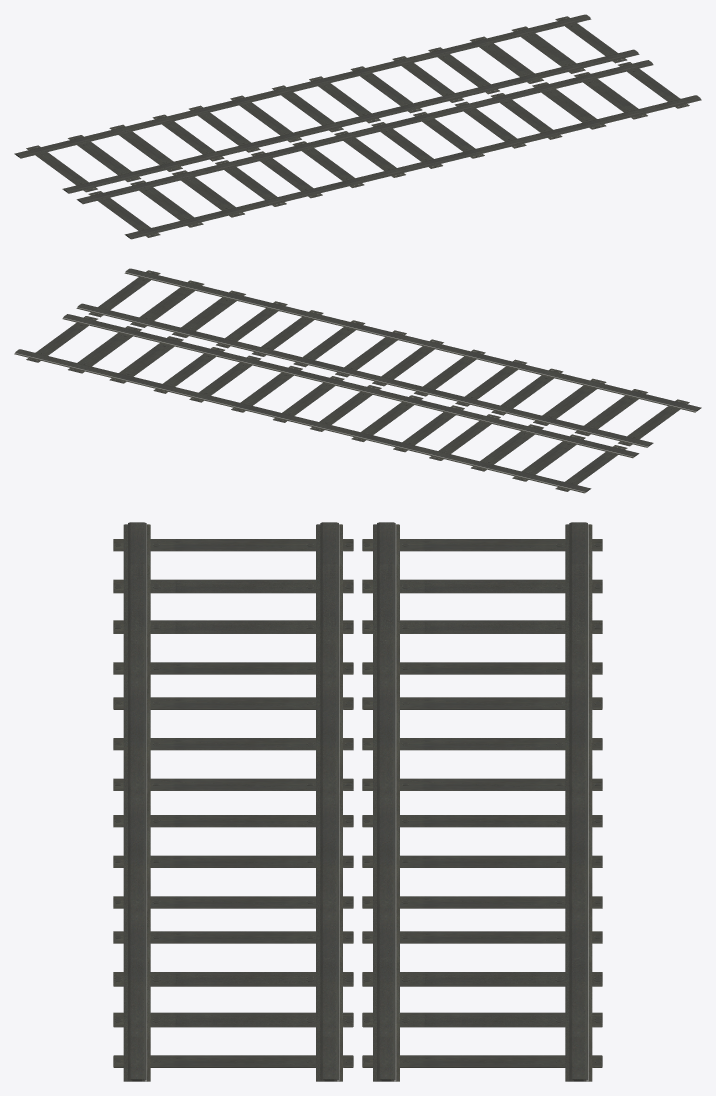
File: Rail1.fbx
3 views of the same model, one above another, from view 1: azimuth 30°, elevation 25°; view 2: azimuth 150°, elevation 25°; view 3: azimuth 270°, elevation 25° (orthographic). The views are drawn at different scales.
Parts seen in each view (by area): view 1: rayH_4, rayH_5, rayH_2, rayH_3, rayH_6, rayH, rayH_7, rayH_13, rayH_11, rayH_10, rayH_1, rayH_12; view 2: rayH_4, rayH_5, rayH_3, rayH_2, rayH_7, rayH_1, rayH_12, rayH_6, rayH_10, rayH_11, rayH, rayH_13; view 3: rayH_4, rayH_5, rayH_3, rayH_2, rayH, rayH_1, rayH_6, rayH_7, rayH_13, rayH_12, rayH_10, rayH_11.
Part boxes in pixels (<box>): rayH_4: <box>299,54,475,124</box>; rayH_5: <box>360,100,538,169</box>; rayH_2: <box>179,83,355,154</box>; rayH_3: <box>239,129,417,199</box>; rayH_6: <box>418,25,595,95</box>; rayH: <box>121,158,298,228</box>; rayH_7: <box>481,71,657,139</box>; rayH_13: <box>14,123,192,193</box>; rayH_11: <box>523,60,701,128</box>; rayH_10: <box>462,14,639,83</box>; rayH_1: <box>58,113,235,183</box>; rayH_12: <box>76,169,253,239</box>; rayH_4: <box>177,354,355,423</box>; rayH_5: <box>240,308,416,378</box>; rayH_3: <box>360,337,534,408</box>; rayH_2: <box>298,383,474,453</box>; rayH_7: <box>120,279,296,349</box>; rayH_1: <box>417,412,594,482</box>; rayH_12: <box>523,377,701,447</box>; rayH_6: <box>58,325,232,393</box>; rayH_10: <box>14,314,192,382</box>; rayH_11: <box>76,268,253,336</box>; rayH: <box>479,366,657,437</box>; rayH_13: <box>461,423,639,493</box>; rayH_4: <box>362,798,602,922</box>; rayH_5: <box>113,798,353,922</box>; rayH_3: <box>113,680,353,804</box>; rayH_2: <box>362,680,602,804</box>; rayH: <box>113,564,353,688</box>; rayH_1: <box>362,564,602,688</box>; rayH_6: <box>362,914,602,1038</box>; rayH_7: <box>113,914,353,1038</box>; rayH_13: <box>362,522,602,646</box>; rayH_12: <box>113,522,353,646</box>; rayH_10: <box>362,957,602,1081</box>; rayH_11: <box>113,957,353,1081</box>.
Bounding box in the file's own units: 15080 × 35.02 × 5600.
1 material, 1 textured.
